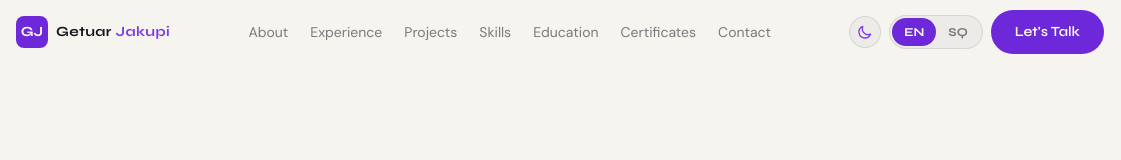
it: Navbar › switches the whole nav to Albanian via the language switch, after the transition settles
Click the button with aria-label "Shqip". click: (958, 32)
box: [936,18,980,46]
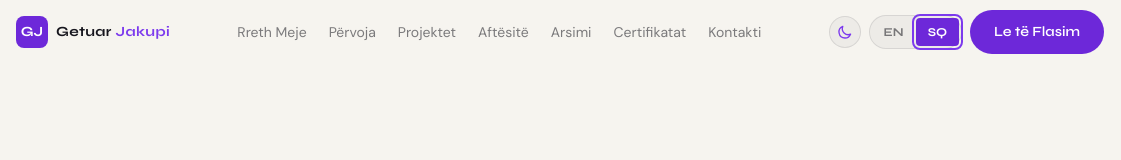
Result: the navigation bar named "Primary" shows "Kontakti" at [698,14,771,50]
